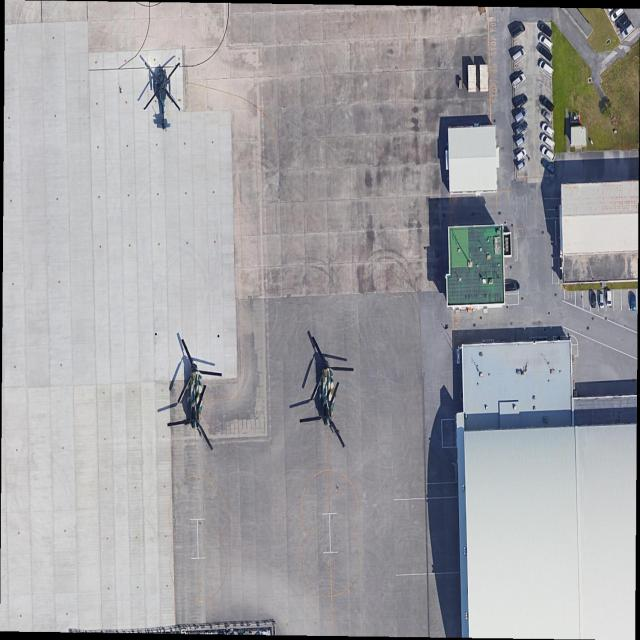large-vehicle: (606, 290, 613, 308), (599, 292, 605, 308)
small-vehicle: (536, 44, 553, 63), (537, 33, 554, 51), (539, 94, 555, 113), (614, 13, 630, 31), (537, 20, 553, 38), (540, 157, 555, 176), (540, 133, 556, 150), (540, 145, 556, 162), (609, 6, 625, 23), (539, 59, 554, 77), (540, 121, 555, 139), (510, 22, 525, 39), (513, 93, 528, 110), (511, 73, 526, 90), (512, 47, 527, 63), (516, 158, 530, 174), (514, 120, 528, 135), (513, 109, 527, 124), (514, 147, 527, 163), (621, 23, 634, 38), (541, 109, 553, 124), (504, 281, 520, 292), (515, 134, 527, 148), (629, 294, 636, 310), (590, 294, 597, 307)
